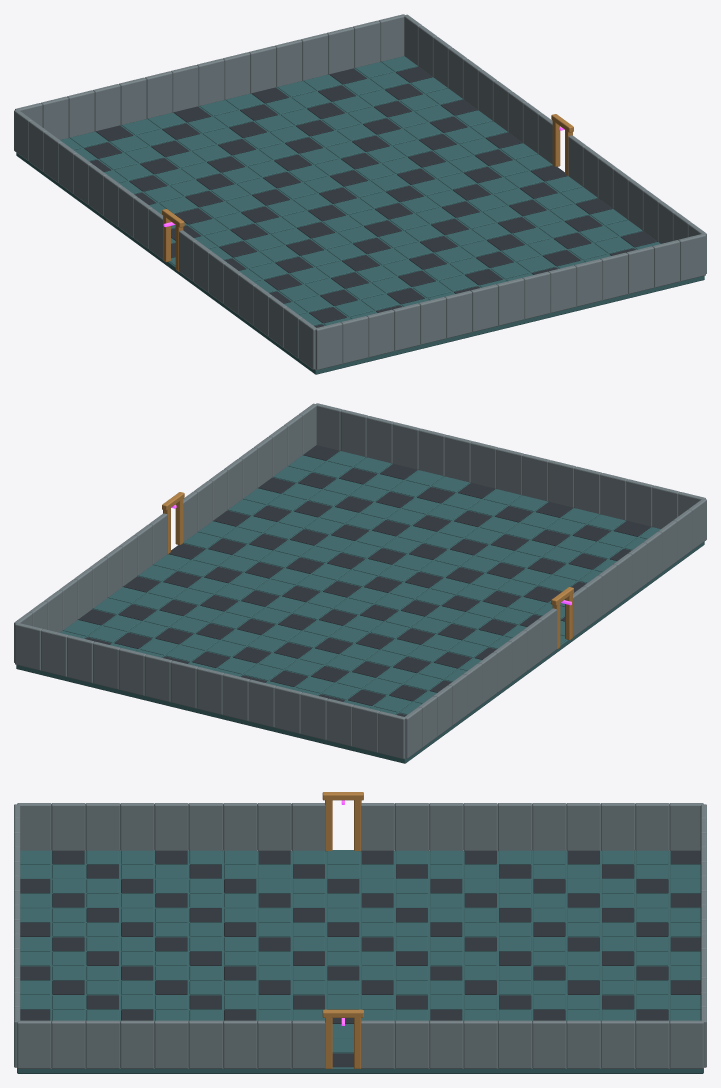
File: cinder-relay-hall.glb
The picture shows the model from 3 angles, top to bottom: view 1: azimuth 30°, elevation 25°; view 2: azimuth 150°, elevation 25°; view 3: azimuth 270°, elevation 25°; orthographic projection. The views are drawn at different scales.
Visible parts, largest first — view 1: Floor slab.001, South wall 0.001, South wall 6.001, South wall 9.001, South wall 1.001, South wall 3.001, South wall 4.001, South wall 5.001, South wall 7.001, South wall 8.001, South wall 10.001, South wall 2.001 (+54 smaller); view 2: Floor slab.001, North wall 0.001, North wall 6.001, North wall 9.001, North wall 1.001, North wall 3.001, North wall 4.001, North wall 5.001, North wall 7.001, North wall 8.001, North wall 10.001, North wall 2.001 (+54 smaller); view 3: Floor slab.001, East wall 1.001, East wall 4.001, East wall 7.001, East wall 12.001, East wall 15.001, East wall 18.001, East wall 0.001, East wall 2.001, East wall 3.001, East wall 5.001, East wall 6.001 (+247 smaller).
Part boxes in pixels (box(x1,y1,x2,y2)): Floor slab.001: box(16, 62, 704, 374); South wall 0.001: box(315, 322, 342, 370); South wall 6.001: box(470, 284, 498, 332); South wall 9.001: box(548, 265, 576, 313); South wall 1.001: box(341, 316, 368, 363); South wall 3.001: box(393, 303, 420, 351); South wall 4.001: box(419, 297, 446, 344); South wall 5.001: box(445, 290, 472, 338); South wall 7.001: box(496, 278, 524, 325); South wall 8.001: box(522, 271, 550, 319); South wall 10.001: box(574, 259, 602, 306); South wall 2.001: box(367, 309, 394, 357); Floor slab.001: box(16, 451, 704, 763); North wall 0.001: box(378, 711, 405, 759); North wall 6.001: box(222, 673, 250, 721); North wall 9.001: box(144, 654, 172, 702); North wall 1.001: box(352, 705, 379, 752); North wall 3.001: box(300, 692, 327, 740); North wall 4.001: box(274, 686, 301, 733); North wall 5.001: box(248, 679, 275, 727); North wall 7.001: box(196, 667, 224, 714); North wall 8.001: box(170, 660, 198, 708); North wall 10.001: box(118, 648, 146, 695); North wall 2.001: box(326, 698, 353, 746); Floor slab.001: box(17, 850, 703, 1073); East wall 1.001: box(635, 1020, 669, 1068); East wall 4.001: box(532, 1020, 566, 1068); East wall 7.001: box(429, 1020, 463, 1068); East wall 12.001: box(257, 1020, 291, 1068); East wall 15.001: box(154, 1020, 188, 1068); East wall 18.001: box(51, 1020, 85, 1068); East wall 0.001: box(669, 1020, 703, 1068); East wall 2.001: box(601, 1020, 635, 1068); East wall 3.001: box(566, 1020, 600, 1068); East wall 5.001: box(498, 1020, 532, 1068); East wall 6.001: box(463, 1020, 497, 1068).
Size of the model in its own units: 15.69 by 2.04 by 20.18.
